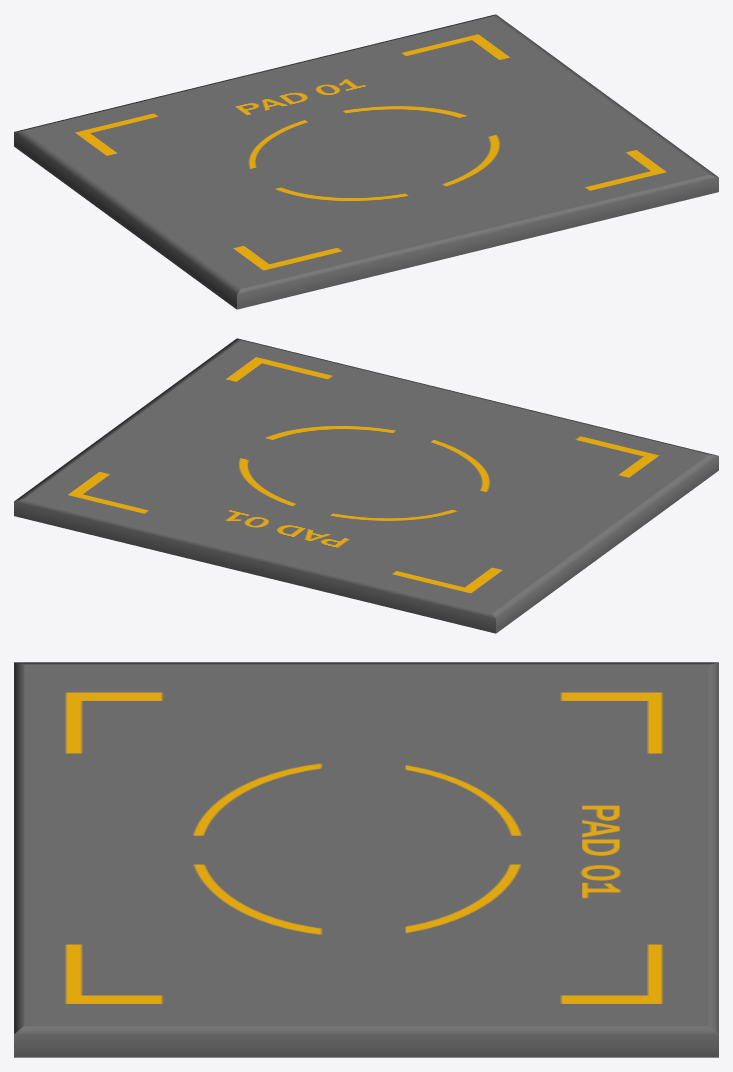
Rendered from LandingPad.fbx.
3 views of the same model, one above another, from view 1: azimuth 30°, elevation 25°; view 2: azimuth 150°, elevation 25°; view 3: azimuth 270°, elevation 25° (orthographic). The views are drawn at different scales.
Parts seen in each view (by area): view 1: pCube27; view 2: pCube27; view 3: pCube27.
Part boxes in pixels (x1,y1,x2,y2): pCube27: (14,14,718,309); pCube27: (14,338,718,633); pCube27: (14,662,718,1057).
Bounding box in the file's own units: 32.93 × 1.08 × 26.38.
1 material, 1 textured.
